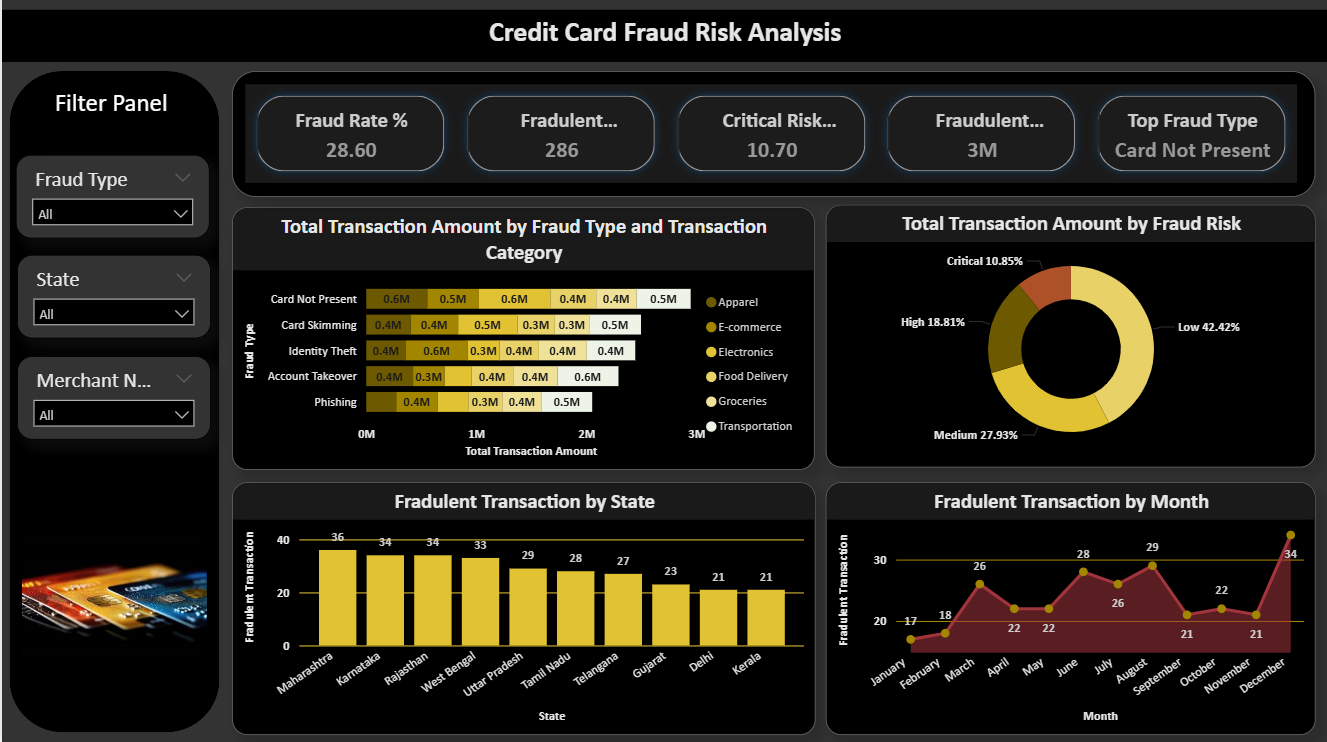

What the dashboard file says about the page in this screenshot:
{"tool":"powerbi","page":{"name":"Page 1","canvas":[1280,720],"ordinal":0},"visuals":[{"type":"textbox","box":[0,13.7,1280.3,50.8],"z":0},{"type":"shape","box":[7.2,72.4,202.7,638.2],"z":1},{"type":"textbox","box":[45.3,83.7,124.9,45.3],"z":2},{"type":"barChart","fields":{"Y":["Credit Card Fraud Risk Analysis.Total Transaction Amount"],"Category":["Credit Card Fraud Risk Analysis.Fraud Type"],"Series":["Credit Card Fraud Risk Analysis.Transaction Category"]},"box":[222,203.9,562.2,253.4],"z":3},{"type":"donutChart","fields":{"Y":["Credit Card Fraud Risk Analysis.Total Transaction Amount"],"Category":["Credit Card Fraud Risk Analysis.Fraud Risk"]},"box":[795,201.5,472.9,253.4],"z":4},{"type":"columnChart","fields":{"Category":["Credit Card Fraud Risk Analysis.State"],"Y":["Credit Card Fraud Risk Analysis.Fradulent Transaction"]},"box":[222,469.3,563.4,243.7],"z":5},{"type":"lineChart","fields":{"Y":["Credit Card Fraud Risk Analysis.Fradulent Transaction"],"Category":["Credit Card Fraud Risk Analysis.Transaction Date.Variation.Date Hierarchy.Month"]},"box":[795,469.3,472.9,243.7],"z":6},{"type":"slicer","fields":{"Values":["Credit Card Fraud Risk Analysis.Fraud Type"]},"box":[13.5,153.6,187.3,80.9],"z":7},{"type":"slicer","fields":{"Values":["Credit Card Fraud Risk Analysis.State"]},"box":[14.8,249.3,187.3,80.9],"z":8},{"type":"slicer","fields":{"Values":["Credit Card Fraud Risk Analysis.Merchant Name"]},"box":[14.8,347.7,187.3,80.9],"z":9},{"type":"cardVisual","fields":{"Data":["Credit Card Fraud Risk Analysis.Fraud Rate %","Credit Card Fraud Risk Analysis.Fradulent Transaction","Credit Card Fraud Risk Analysis.Critical Risk Transaction","Credit Card Fraud Risk Analysis.Fraudulent Transaction Amount","Credit Card Fraud Risk Analysis.Top Fraud Type"]},"box":[222,72.4,1046,121.9],"z":10},{"type":"image","box":[14.5,498.3,188.2,159.3],"z":12}]}

Visuals, with their boxes in screenshot pixels (x1, y1, x2, y2), scaled from the page's 1280x720 canvas onto the 1327x742 screenshot:
textbox: (0, 14, 1326, 66)
shape: (7, 75, 218, 732)
textbox: (47, 86, 176, 133)
barChart - Credit Card Fraud Risk Analysis.Total Transaction Amount x Credit Card Fraud Risk Analysis.Fraud Type: (230, 210, 813, 471)
donutChart - Credit Card Fraud Risk Analysis.Total Transaction Amount x Credit Card Fraud Risk Analysis.Fraud Risk: (824, 208, 1314, 469)
columnChart - Credit Card Fraud Risk Analysis.State x Credit Card Fraud Risk Analysis.Fradulent Transaction: (230, 484, 814, 735)
lineChart - Credit Card Fraud Risk Analysis.Fradulent Transaction x Credit Card Fraud Risk Analysis.Transaction Date.Variation.Date Hierarchy.Month: (824, 484, 1314, 735)
slicer - Credit Card Fraud Risk Analysis.Fraud Type: (14, 158, 208, 242)
slicer - Credit Card Fraud Risk Analysis.State: (15, 257, 210, 340)
slicer - Credit Card Fraud Risk Analysis.Merchant Name: (15, 358, 210, 442)
cardVisual - Credit Card Fraud Risk Analysis.Fraud Rate % x Credit Card Fraud Risk Analysis.Fradulent Transaction: (230, 75, 1315, 200)
image: (15, 514, 210, 678)
